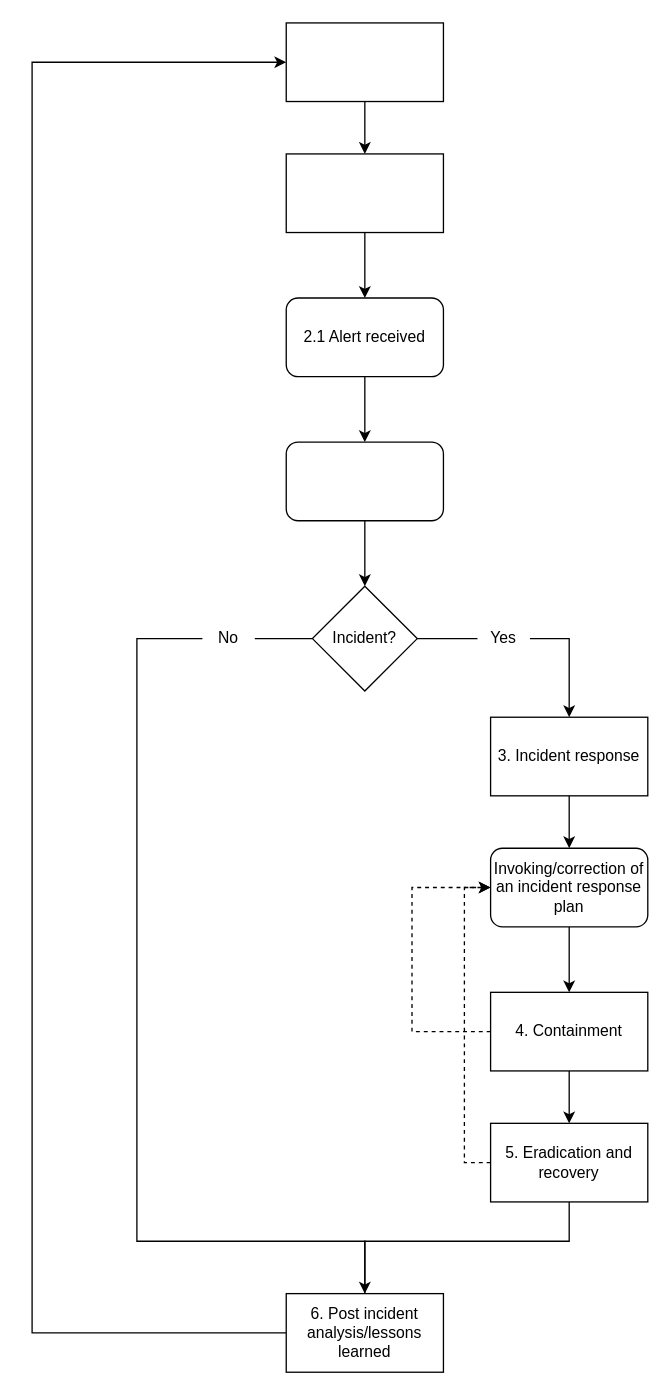
The diagram is 671 pixels wide and 1395 high, and some of its shapes have lost their labels. Here are the shapes that lost their labels. From the top down, the centre of each, then its label:
point (364, 62): 1. Preparation
point (364, 193): 2. Detection and analysis
point (364, 481): 2.2 Triage and analysis
